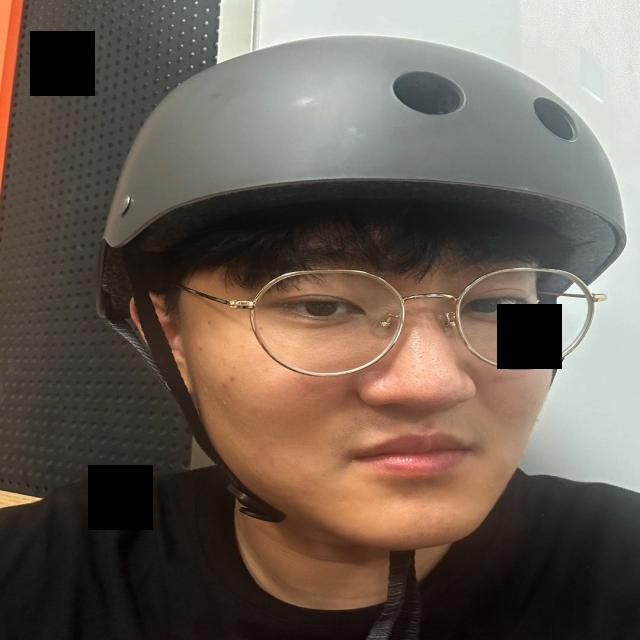Helmet: (93, 33, 628, 550)
